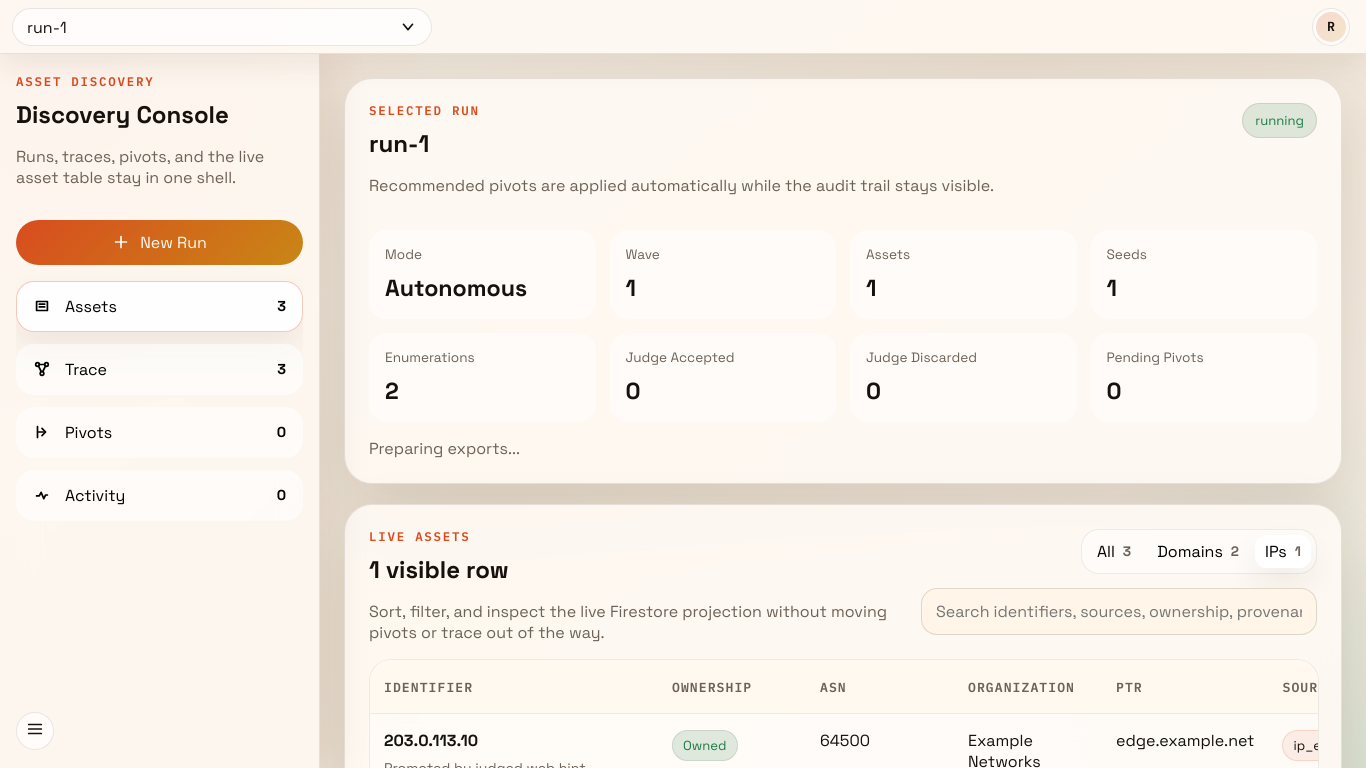
Test case: App › restores the asset tab from the hash and switches between all, domains, and ips
Expected: the table shows "203.0.113.10", [384, 730, 478, 751]
Expected: the text "alpha.example.com" is not shown
What coordinates should you click on to do the following:
click the tab "Domains 2"
I would click on:
 (1198, 552)
Its box is [1147, 535, 1249, 568].
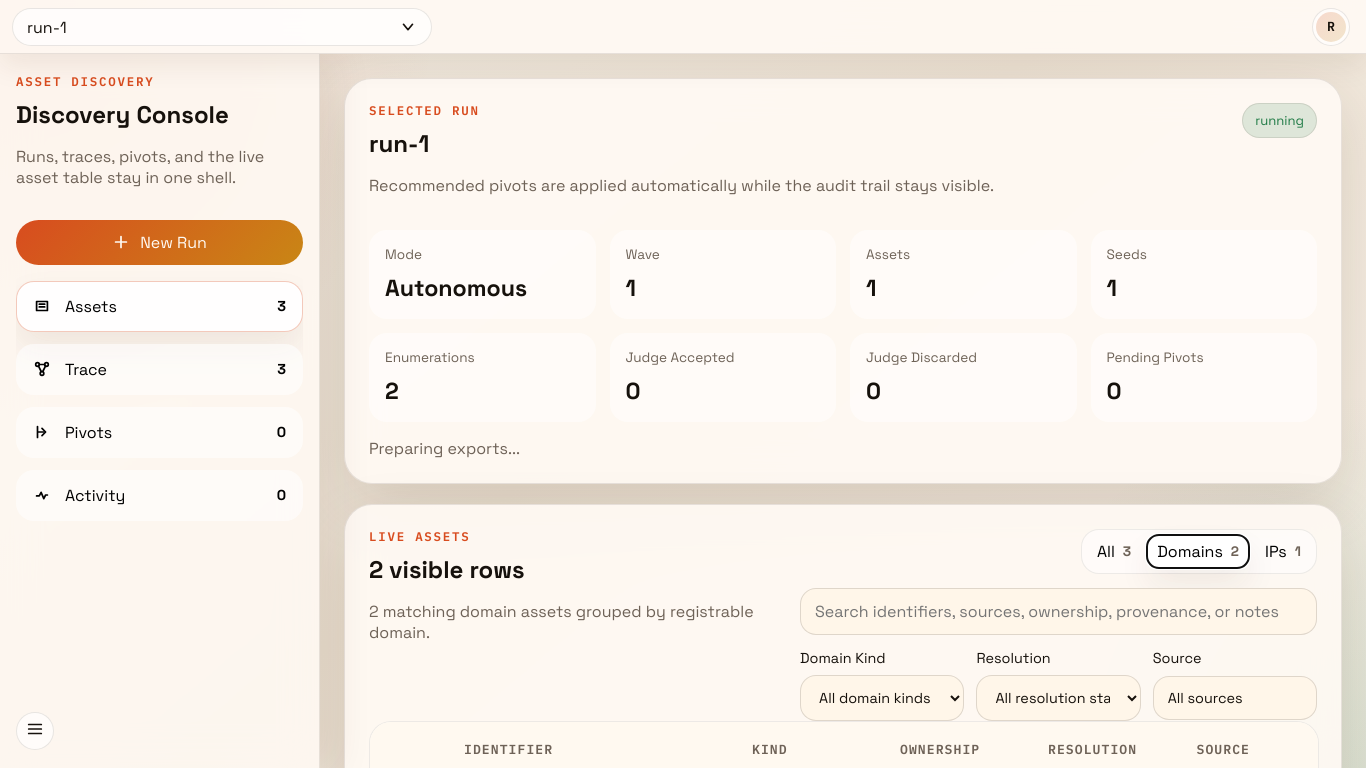
Expected: the column heading "Kind" is shown, [738, 722, 886, 767]
Expected: the column heading "Resolution" is shown, [1034, 722, 1182, 767]
Expected: the button "ASN" is gone
What coordinates should you click on to do the following:
click the tab "All 3"
I would click on:
 (1114, 552)
Its box is [1087, 535, 1141, 568].
(page scrolled)
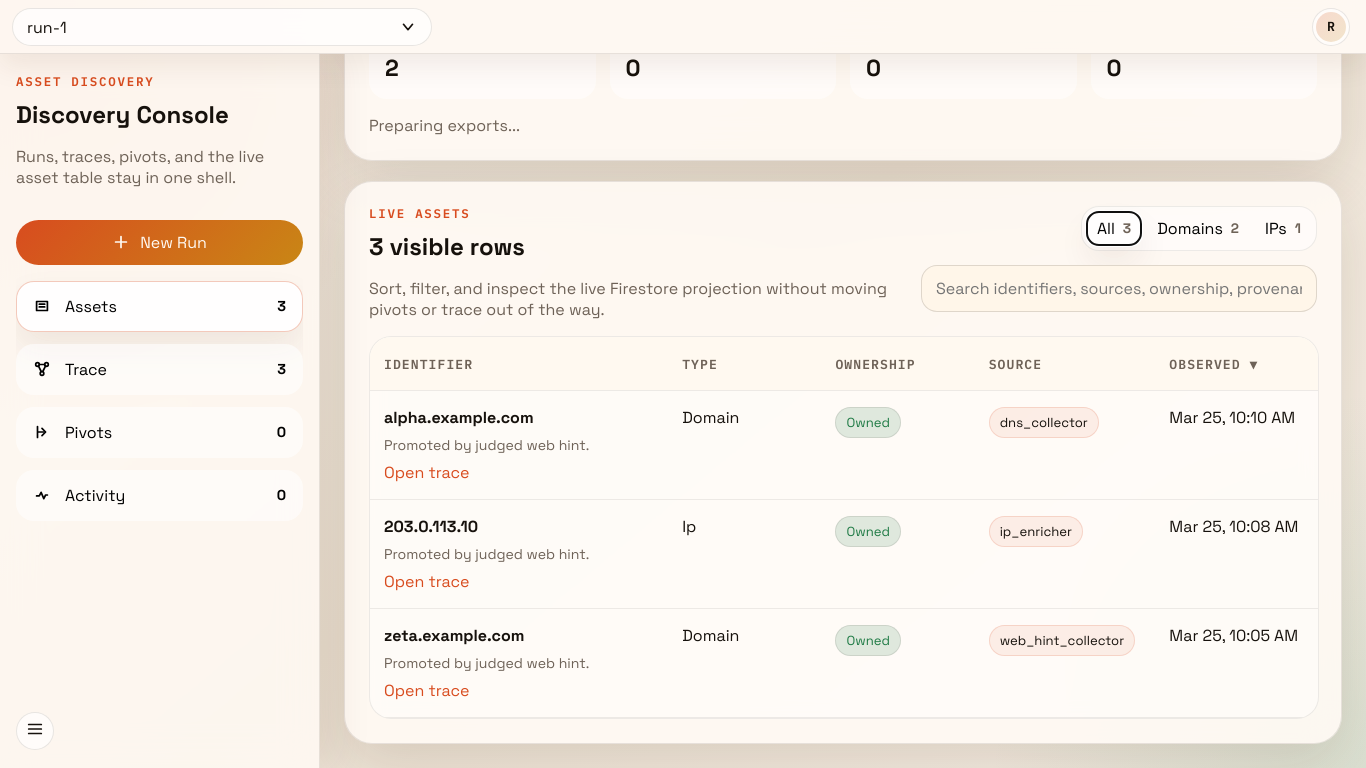
Expected: the column heading "Type" is shown, [668, 337, 821, 390]
Expected: the text "203.0.113.10" is shown, [384, 516, 478, 537]
